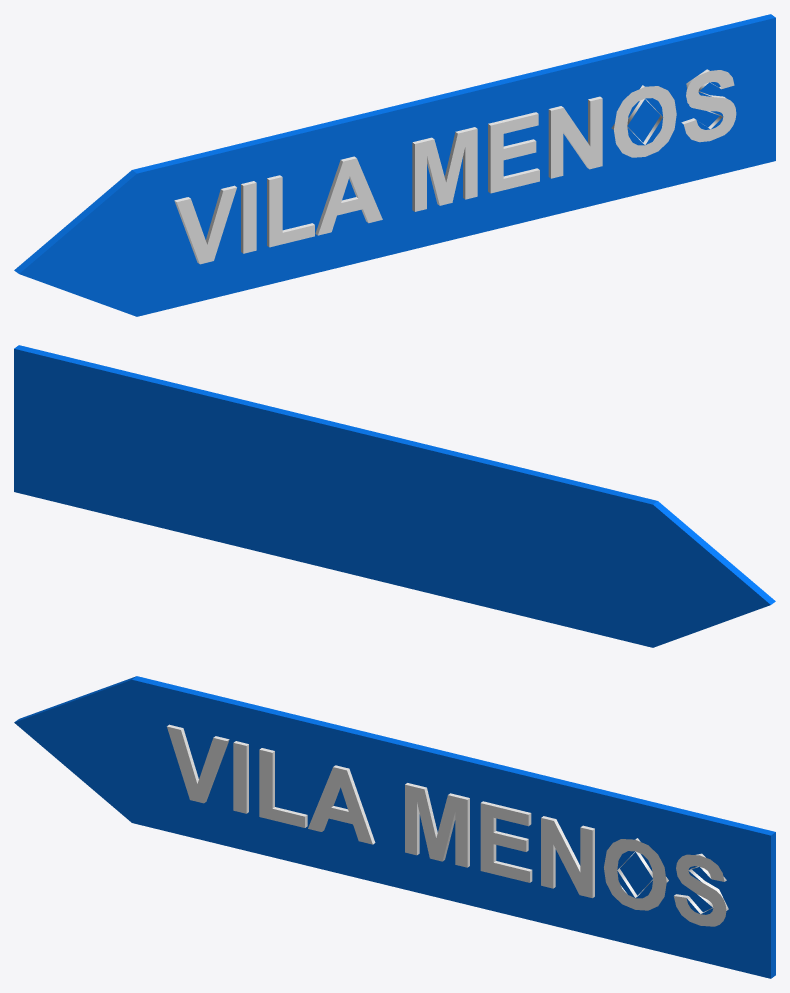
The model's file is placa Vila Menos.fbx.
3 views of the same model, one above another, from view 1: azimuth 30°, elevation 25°; view 2: azimuth 150°, elevation 25°; view 3: azimuth 330°, elevation 25° (orthographic).
Visible parts, largest first — view 1: vila menos; view 2: vila menos; view 3: vila menos.
Boxes of the visible parts, x1,y1,x2,y2 form: vila menos: (14,14,775,316); vila menos: (14,345,775,647); vila menos: (14,676,775,978).
Bounding box in the file's own units: 1750 × 317 × 30.
